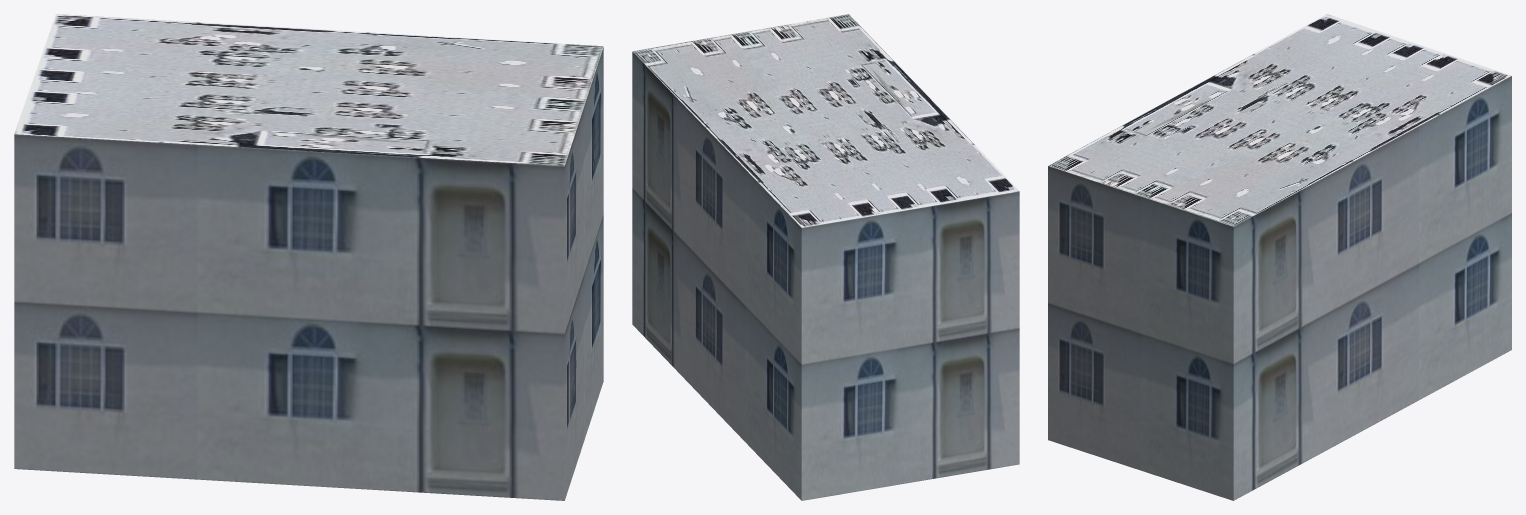
File: ResTex__184.fbx
The picture shows the model from 3 angles, left to right: view 1: azimuth 30°, elevation 25°; view 2: azimuth 150°, elevation 25°; view 3: azimuth 270°, elevation 25°; orthographic projection. The views are drawn at different scales.
Visible parts, largest first — view 1: CityEngineMaterial_17_m, CityEngineMaterial_8_m; view 2: CityEngineMaterial_17_m, CityEngineMaterial_8_m; view 3: CityEngineMaterial_17_m, CityEngineMaterial_8_m.
Part boxes in pixels (x1,y1,x2,y2): CityEngineMaterial_17_m: (14, 47, 603, 500); CityEngineMaterial_8_m: (14, 14, 603, 166); CityEngineMaterial_17_m: (632, 52, 1019, 500); CityEngineMaterial_8_m: (632, 14, 1019, 227); CityEngineMaterial_17_m: (1048, 76, 1511, 500); CityEngineMaterial_8_m: (1048, 14, 1511, 226).
Size of the model in its own units: 9.99 by 6 by 9.2.
Materials: 2 (2 with a texture image).
